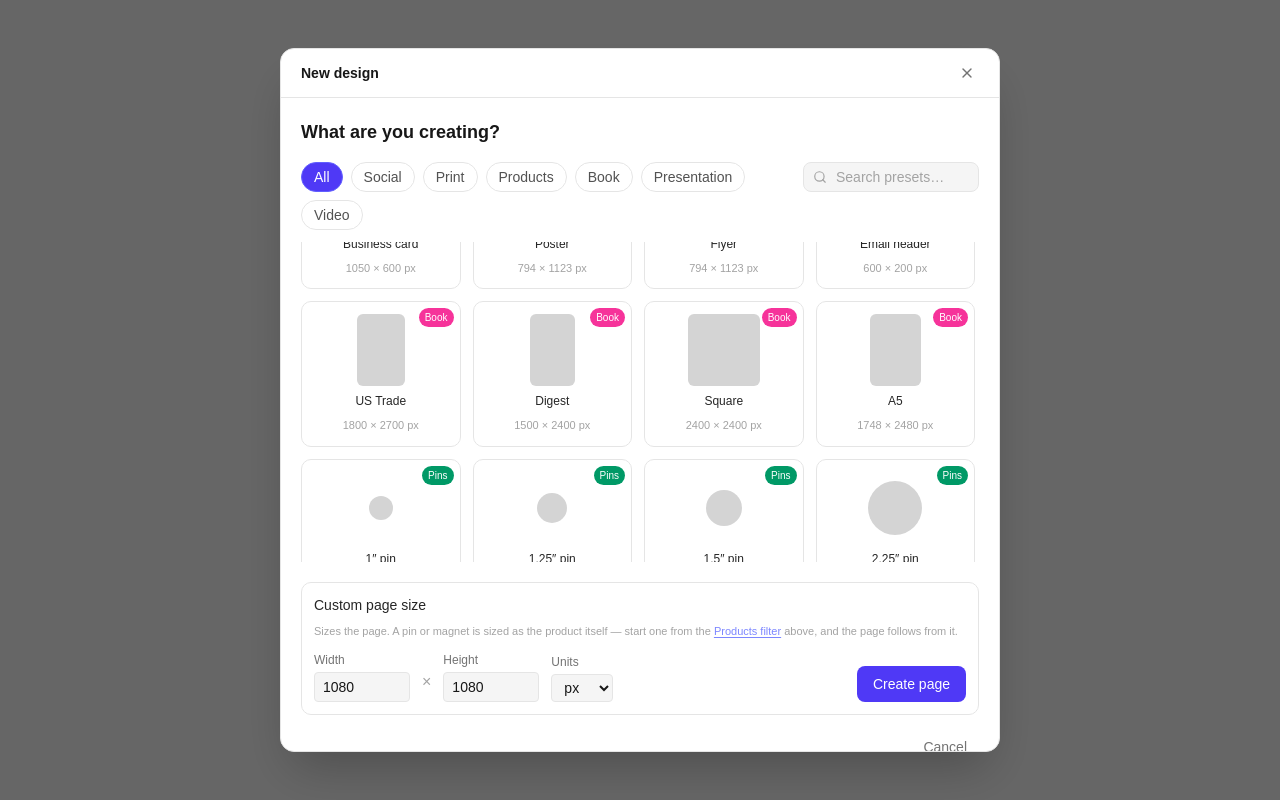
Scenario: NewDesignModal — print products › warns off the page-size box in the book flow’s own terms
(page scrolled)
Click the text "US Trade" at (381, 402), box top-left (355, 394), bottom-right (406, 409)
(page scrolled)
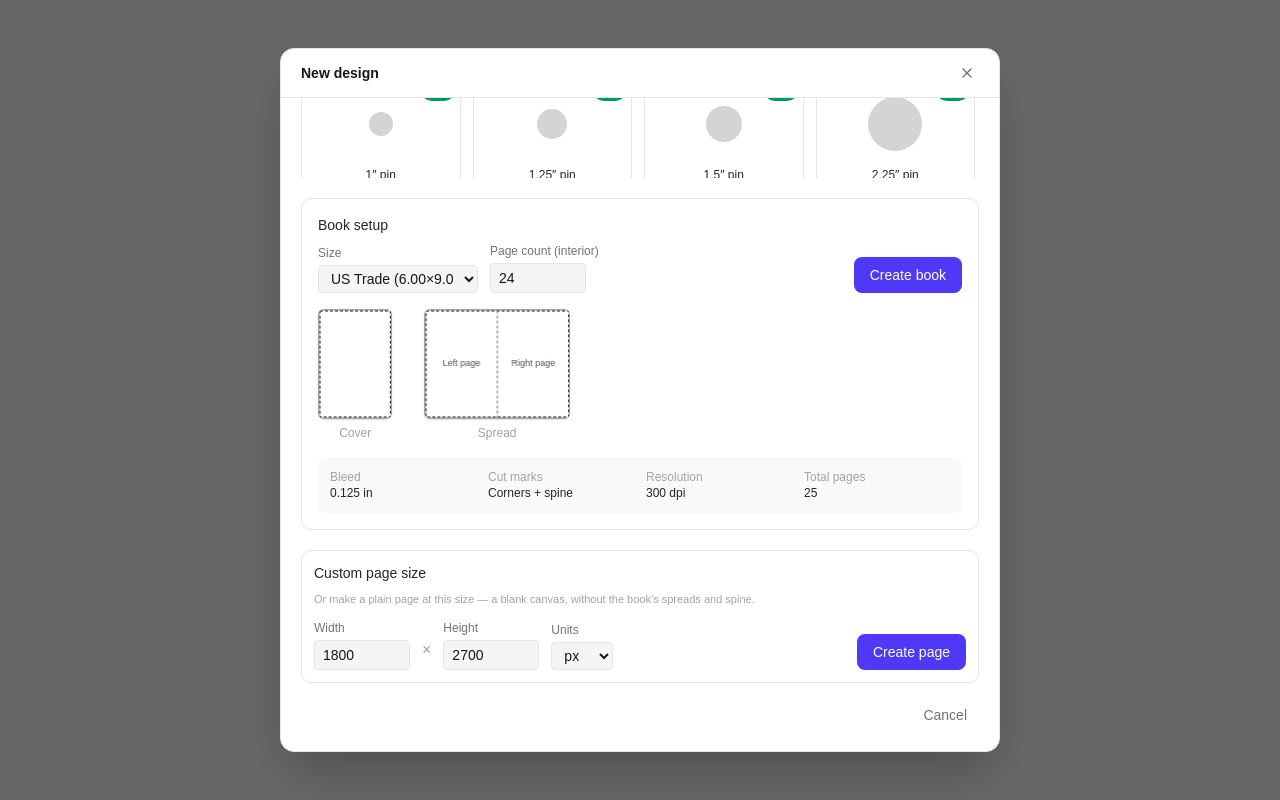
expect the text "Book setup" is shown: met, box top-left (318, 217), bottom-right (388, 233)
expect the text "without the book’s spreads and spine" is shown: met, box top-left (314, 593), bottom-right (755, 605)
